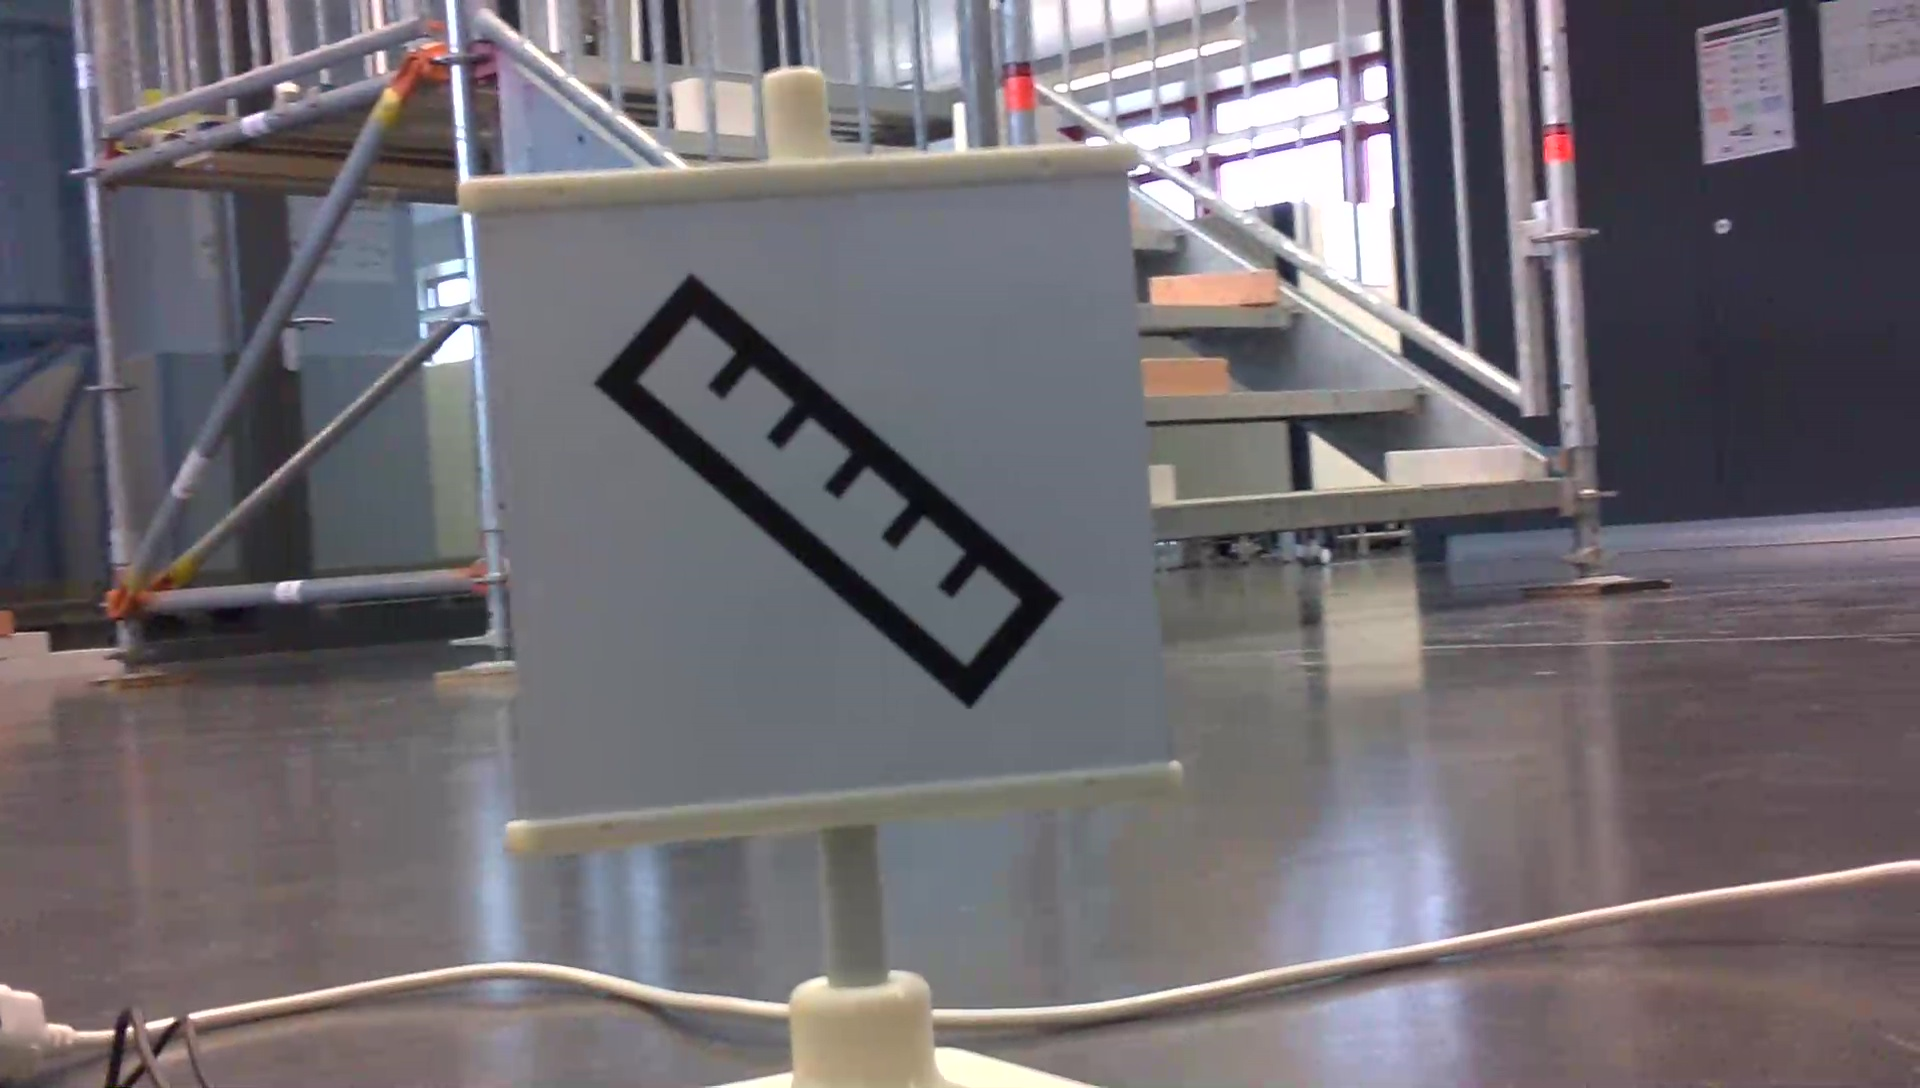brick: (1145, 256, 1287, 309), (1389, 442, 1527, 483), (669, 82, 760, 138), (1135, 357, 1232, 396), (1145, 462, 1192, 505)
edge: (1154, 469, 1575, 539), (1139, 378, 1443, 426), (1124, 309, 1287, 328)
ruler: (589, 261, 1073, 740)
